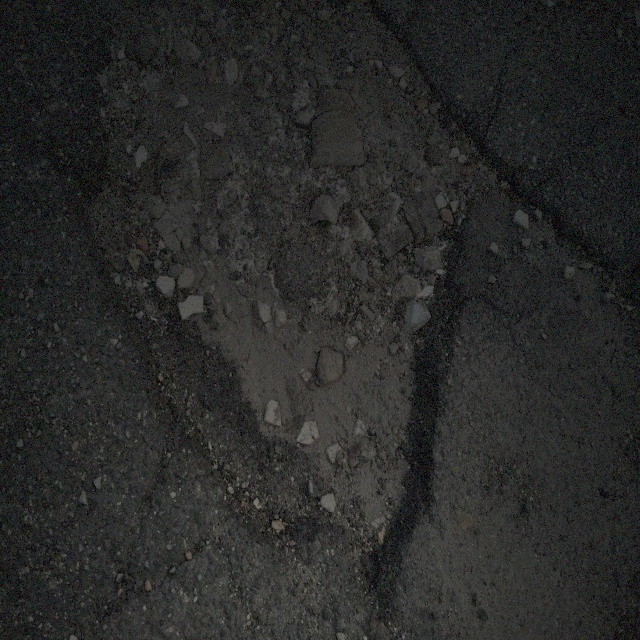pothole: (71, 20, 479, 572)
